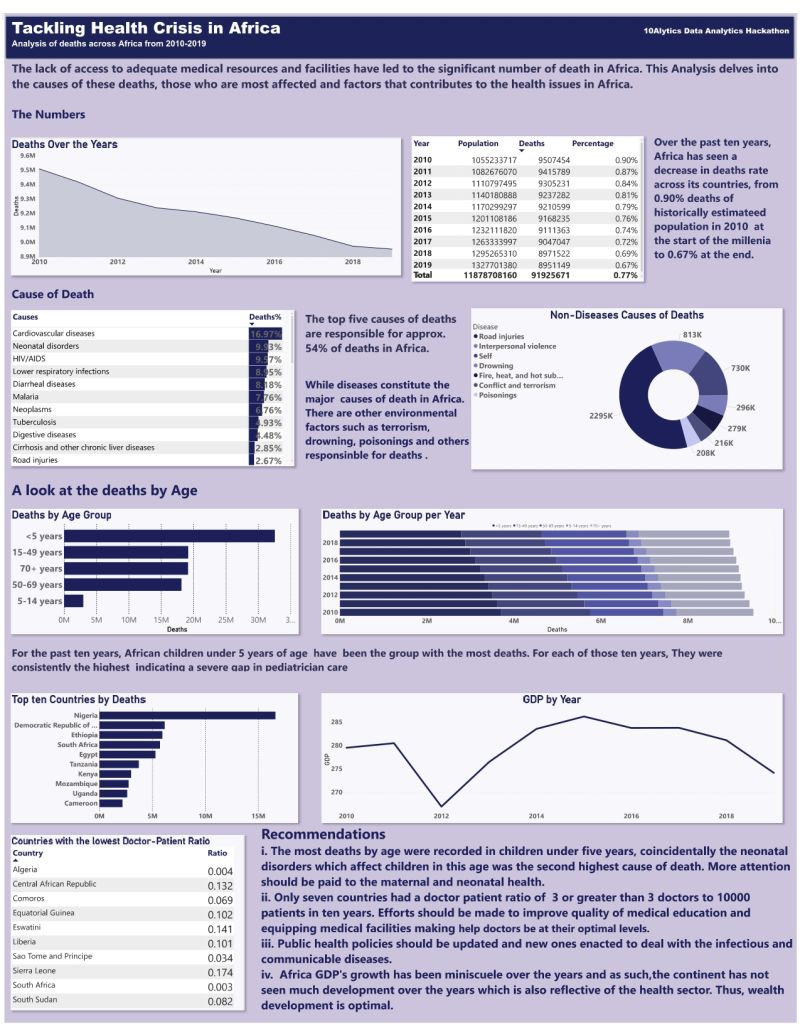

What the dashboard file says about the page in this screenshot:
{"tool":"powerbi","page":{"name":"Dashboard with Annotations","canvas":[4000,5100],"ordinal":1},"visuals":[{"type":"areaChart","title":"Deaths Over the Years","fields":{"Y":["Sum(deaths_by_age.Deaths)"],"Category":["deaths_by_age.Year"]},"box":[31.7,629.7,1970.1,693.1],"z":0},{"type":"shape","box":[0,7.8,3992.2,226.6],"z":1000},{"type":"barChart","title":"Top ten Countries by Deaths","fields":{"Y":["Sum(deaths_by_age.Deaths)"],"Category":["deaths_by_age.Country"]},"box":[33.3,3433.3,1450,603.3],"z":2000},{"type":"barChart","fields":{"Category":["deaths_by_age.Age Group"],"Y":["Sum(deaths_by_age.Deaths)"]},"box":[31.2,2500,1453.1,632.8],"z":3000},{"type":"pivotTable","title":"Major  Disease","fields":{"Rows":["deaths_by_cause.Disease"],"Values":["Divide(Sum(deaths_by_cause.Deaths), ScopedEval(Sum(deaths_by_cause.Deaths), []))"]},"box":[31.2,1500,1429.7,789.1],"z":4000},{"type":"textbox","box":[31.2,7.8,3960.9,226.6],"z":5000},{"type":"donutChart","title":"Non-Diseases Causes of Deaths","fields":{"Y":["Sum(deaths_by_cause.Deaths)"],"Category":["deaths_by_cause.Disease"]},"box":[2358.8,1490.2,1569.8,812.8],"z":6000},{"type":"textbox","box":[3275.3,608.6,654.4,714.2],"z":7000},{"type":"textbox","box":[1515.6,1500,843.8,796.9],"z":8000},{"type":"textbox","box":[31.7,3187.3,3898,140.7],"z":9000},{"type":"barChart","title":"Deaths by Age Group per Year ","fields":{"Category":["deaths_by_age.Year"],"Y":["Sum(deaths_by_age.Deaths)"],"Series":["deaths_by_age.Age Group"]},"box":[1545.9,2502.2,2326.9,629.5],"z":10000},{"type":"textbox","box":[32.9,230.5,3958.8,197.5],"z":11000},{"type":"lineChart","title":"GDP per Year","fields":{"Category":["health_gdp.Year"],"Y":["Merge1.Measure 2"]},"box":[2670,3433.3,1260,603.3],"z":12000},{"type":"textbox","box":[31.9,1370.6,1482.2,119.5],"z":13000},{"type":"textbox","box":[32.9,465,526.7,164.6],"z":14000},{"type":"textbox","box":[31.2,2351.6,1000,148.4],"z":15000},{"type":"textbox","box":[1290,4090,2700,1010],"z":16000},{"type":"barChart","title":"Countries with the Highest Death Rates","fields":{"Category":["Merge1.Country"],"Y":["Sum(Merge1.death_rate_100,000)"]},"box":[1545.9,3434.5,1067.8,605.6],"z":17000},{"type":"pivotTable","title":"Death% per Year","fields":{"Values":["Sum(tab.Deaths)","Sum(tab1.Population (historical estimates))","tab.deaths%"],"Rows":["tab.Year.Variation.Date Hierarchy.Year"]},"box":[2051,629.7,1171.5,731.8],"z":18000},{"type":"pivotTable","title":"Countries with the lowest Doctor-Patient Ratio","fields":{"Rows":["doctors_per_10000.Country"],"Values":["Sum(doctors_per_10000.Value)"]},"box":[31.9,4072,1203.3,1012],"z":19000}]}

Visuals, with their boxes in screenshot pixels (x1, y1, x2, y2), scaled from the page's 4000x5100 canvas onto the 800x1035 screenshot:
"Deaths Over the Years" areaChart: <box>6,128,400,268</box>
shape: <box>0,2,798,48</box>
"Top ten Countries by Deaths" barChart: <box>7,697,297,819</box>
barChart - deaths_by_age.Age Group x Sum(deaths_by_age.Deaths): <box>6,507,297,636</box>
"Major  Disease" pivotTable: <box>6,304,292,465</box>
textbox: <box>6,2,798,48</box>
"Non-Diseases Causes of Deaths" donutChart: <box>472,302,786,467</box>
textbox: <box>655,124,786,268</box>
textbox: <box>303,304,472,466</box>
textbox: <box>6,647,786,675</box>
"Deaths by Age Group per Year " barChart: <box>309,508,775,636</box>
textbox: <box>7,47,798,87</box>
"GDP per Year" lineChart: <box>534,697,786,819</box>
textbox: <box>6,278,303,302</box>
textbox: <box>7,94,112,128</box>
textbox: <box>6,477,206,507</box>
textbox: <box>258,830,798,1034</box>
"Countries with the Highest Death Rates" barChart: <box>309,697,523,820</box>
"Death% per Year" pivotTable: <box>410,128,644,276</box>
"Countries with the lowest Doctor-Patient Ratio" pivotTable: <box>6,826,247,1032</box>
